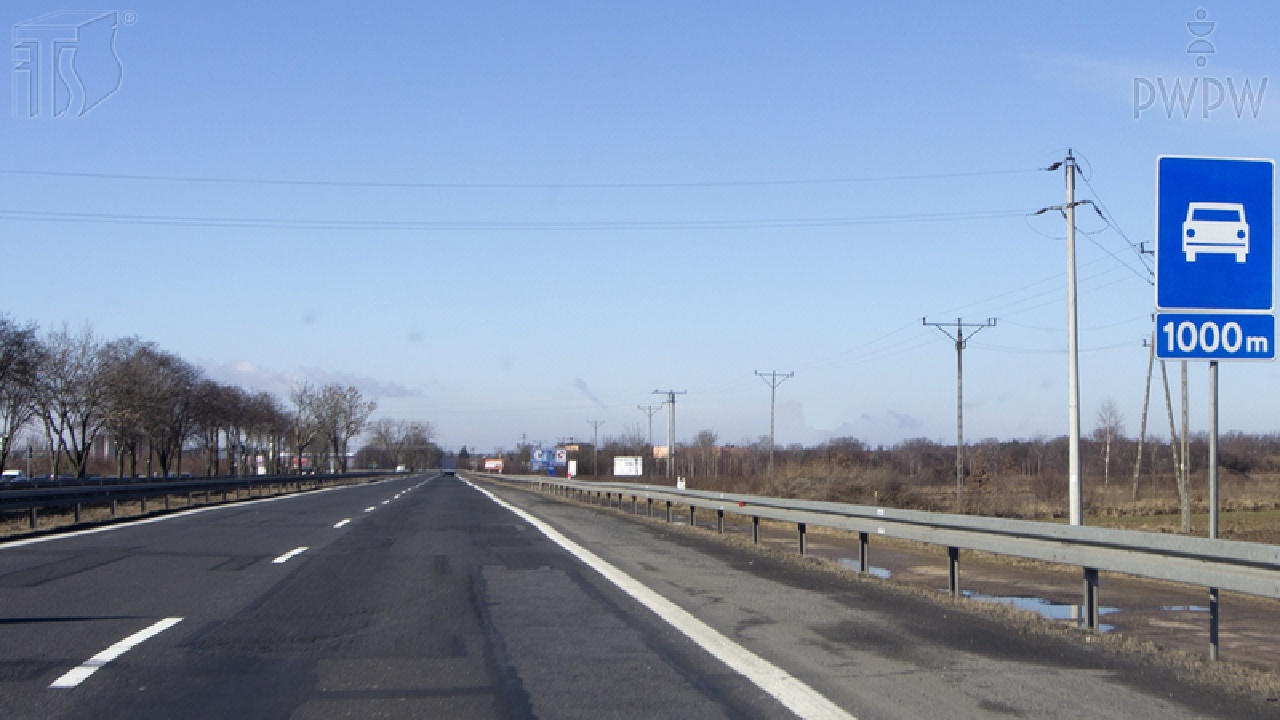D7: (1157, 157, 1272, 311)
